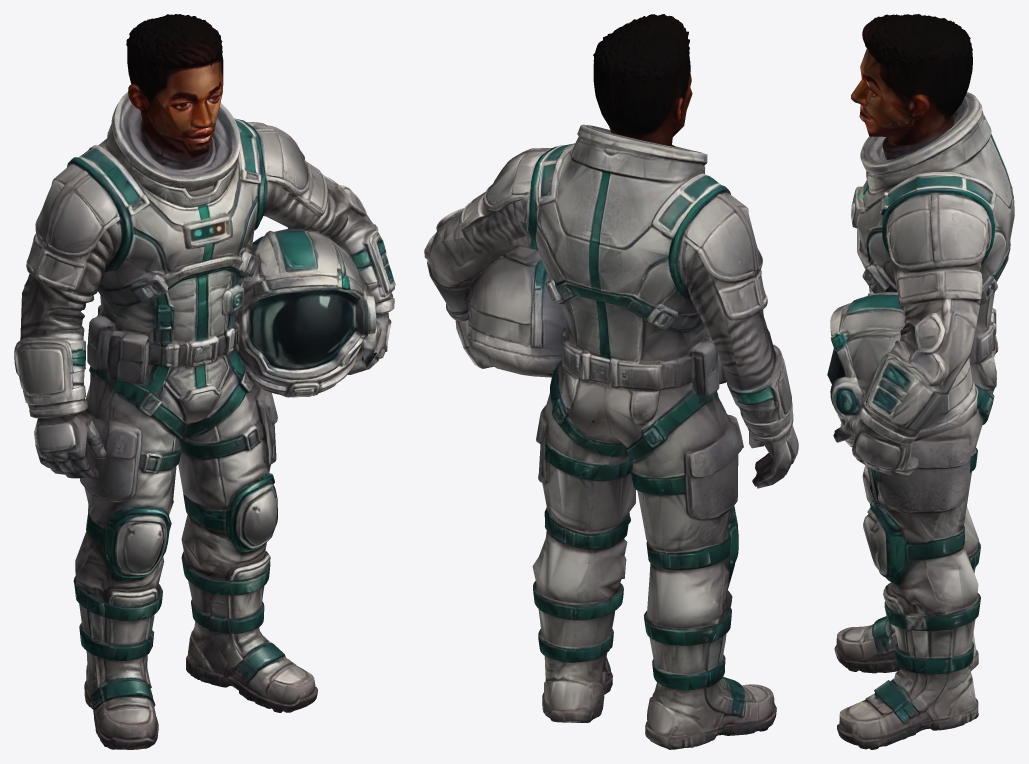
File: avatar-kael.glb
The picture shows the model from 3 angles, left to right: view 1: azimuth 30°, elevation 25°; view 2: azimuth 150°, elevation 25°; view 3: azimuth 270°, elevation 25°; orthographic projection. The views are drawn at different scales.
Visible parts, largest first — view 1: model; view 2: model; view 3: model.
Boxes of the visible parts, x1,y1,x2,y2 form: model: (14, 14, 395, 749); model: (424, 14, 798, 749); model: (827, 14, 1014, 749).
Bounding box in the file's own units: 1.03 × 1.91 × 0.4748.
Materials: 1 (1 with a texture image).
